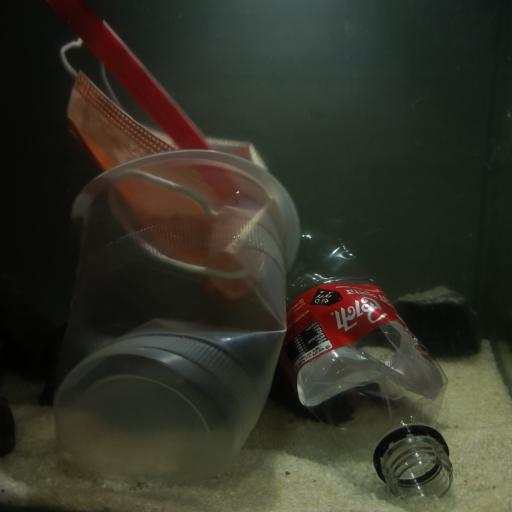mask: (61, 34, 282, 301)
plastic_bottle: (280, 235, 455, 494)
plastic_cup: (54, 144, 300, 484)
plastic_straw: (59, 0, 221, 164)
